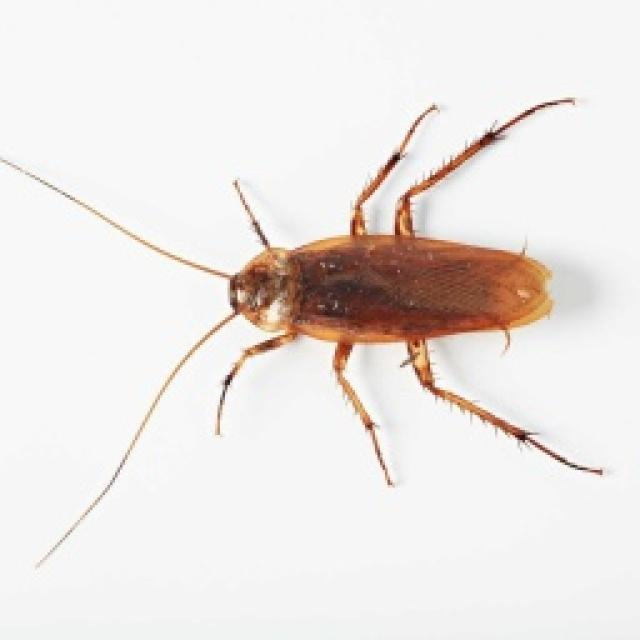cockroach: (5, 92, 610, 571)
